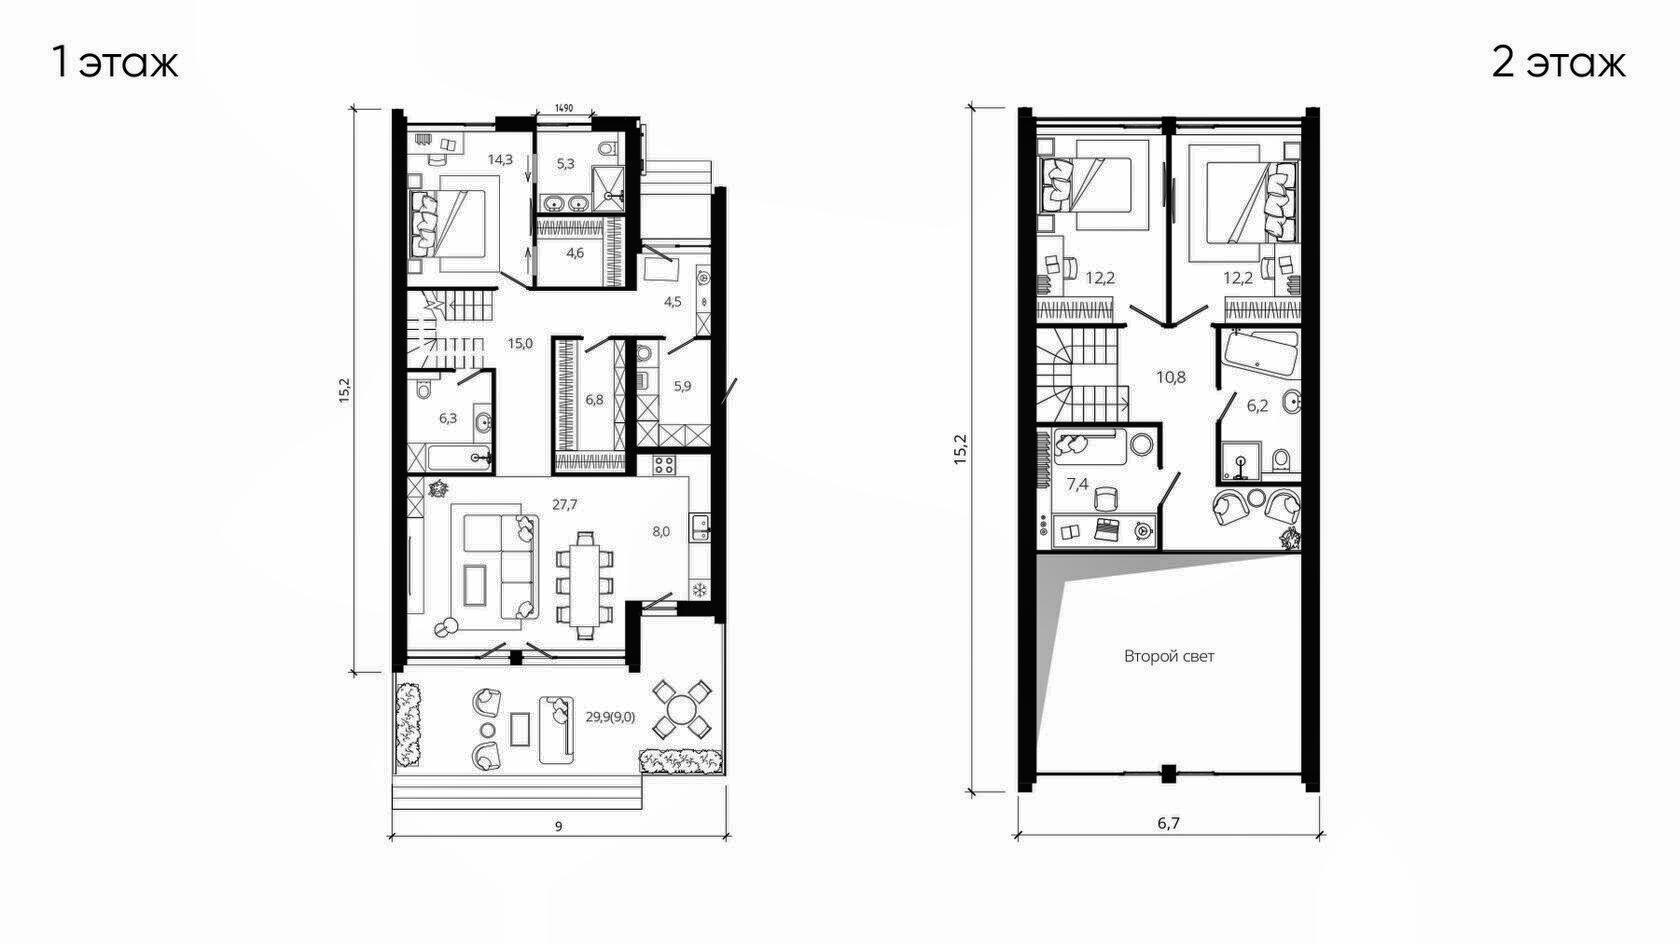door: (639, 590, 681, 620), (492, 270, 532, 294), (640, 240, 677, 265), (479, 639, 513, 666), (447, 365, 485, 388), (661, 332, 698, 355), (522, 150, 540, 187), (580, 334, 612, 354), (524, 242, 540, 279), (522, 643, 553, 661)
window: (532, 108, 594, 137), (554, 644, 627, 665), (407, 117, 497, 132), (406, 645, 478, 664)
